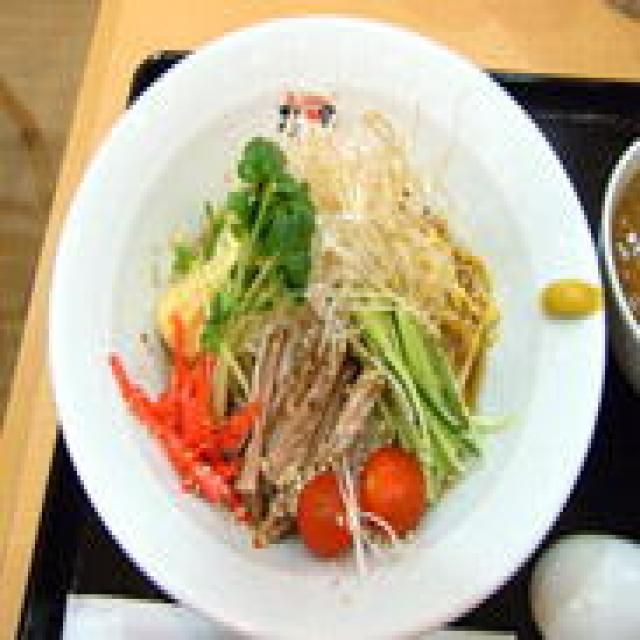面条主食: (31, 4, 608, 636)
